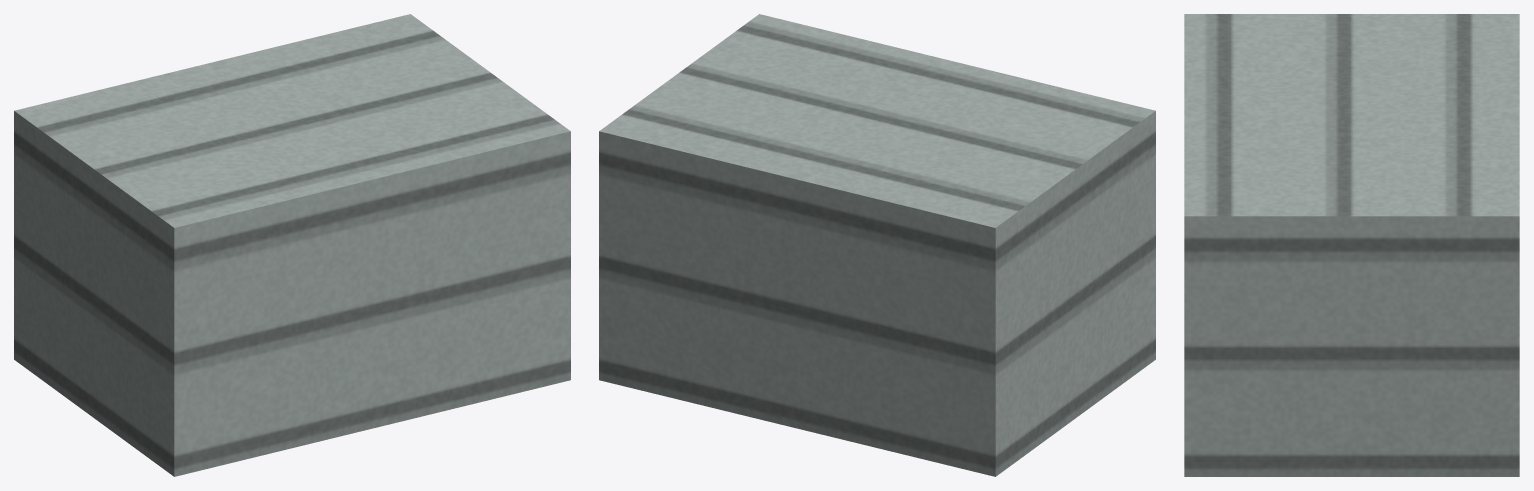
File: microwave.glb
3 renders of one model, left to right at view 1: azimuth 30°, elevation 25°; view 2: azimuth 150°, elevation 25°; view 3: azimuth 270°, elevation 25°, orthographic. The views are drawn at different scales.
Parts seen in each view (by area): view 1: microwave-col; view 2: microwave-col; view 3: microwave-col.
Part boxes in pixels (x1,y1,x2,y2): microwave-col: [14, 14, 570, 476]; microwave-col: [599, 14, 1155, 476]; microwave-col: [1184, 14, 1519, 476].
Bounding box in the file's own units: 0.5 × 0.3 × 0.35.
Materials: 1 (1 with a texture image).
